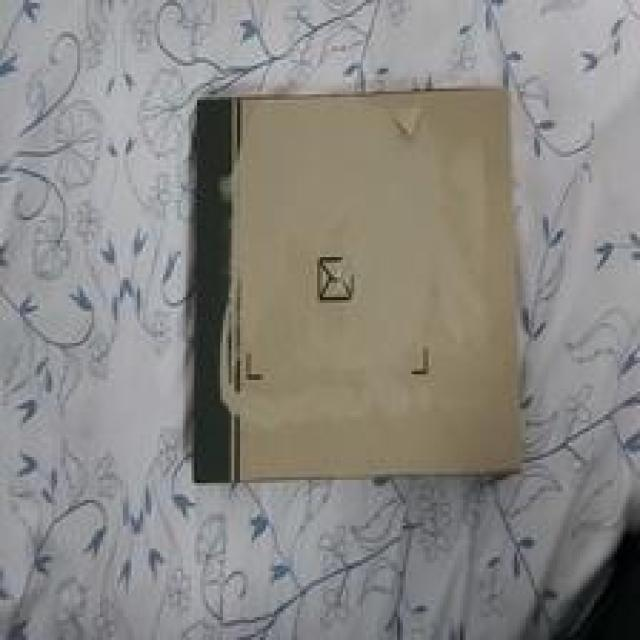PaperCardboard: (195, 89, 529, 474)
